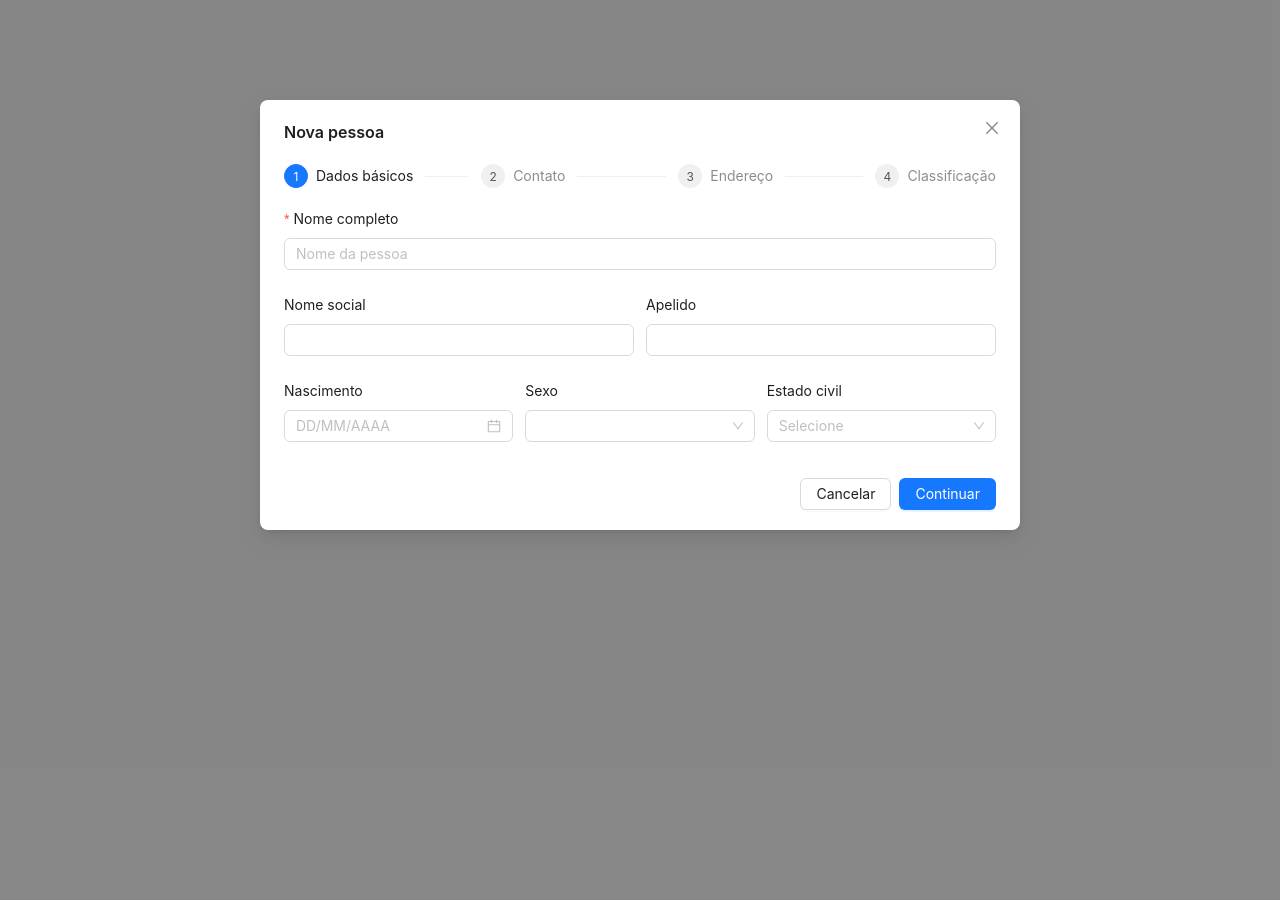
it: PessoaWizard › permite avançar só com o nome quando os demais campos estão opcionais
In the field with placeholder "Nome da pessoa": (640, 254) [284, 238, 996, 270], type "Maria Silva"
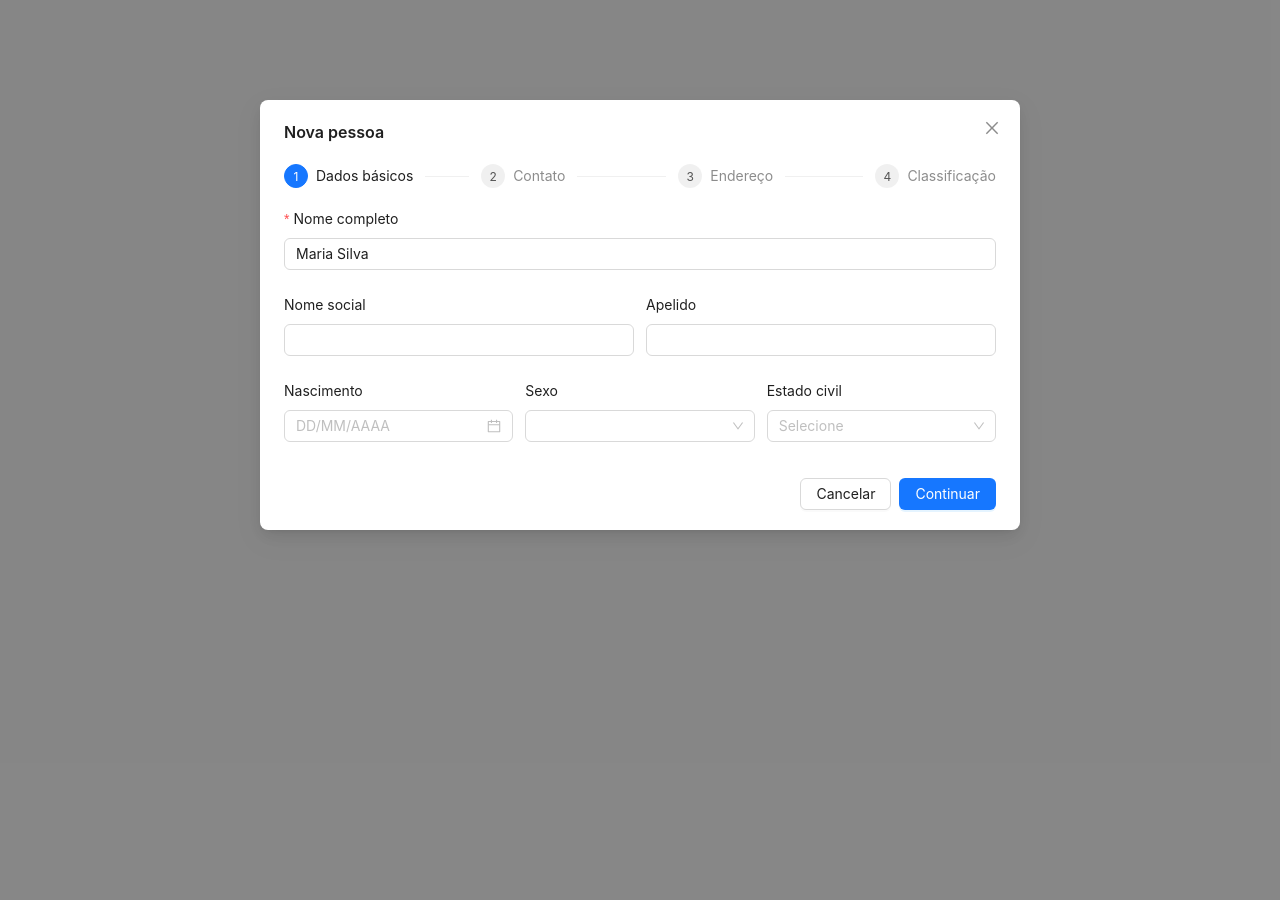
Click the button "Continuar": (948, 494) [900, 478, 996, 510]
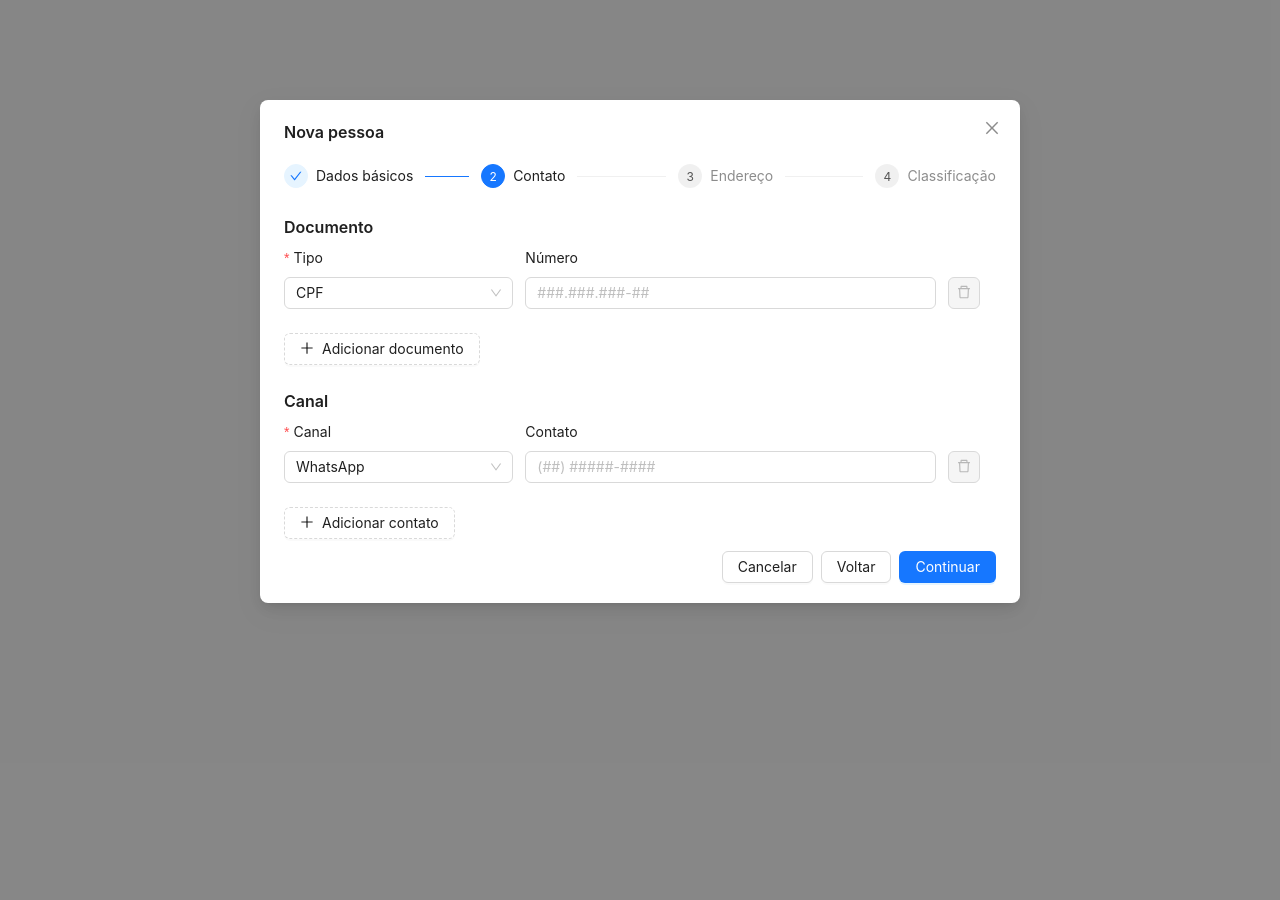
Now the heading "Documento" is shown, box [284, 217, 373, 237]
